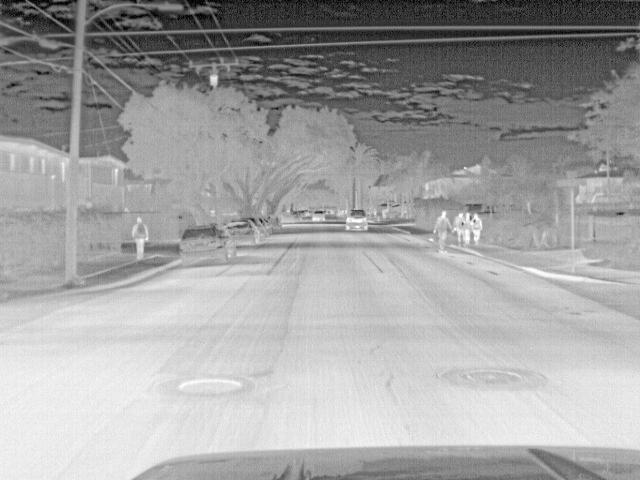car: (180, 223, 236, 268), (226, 220, 258, 246), (342, 208, 369, 231), (248, 218, 268, 237), (264, 214, 282, 230), (310, 212, 328, 224)
person: (431, 209, 454, 252), (133, 214, 151, 260), (460, 210, 475, 245), (473, 212, 485, 246)
